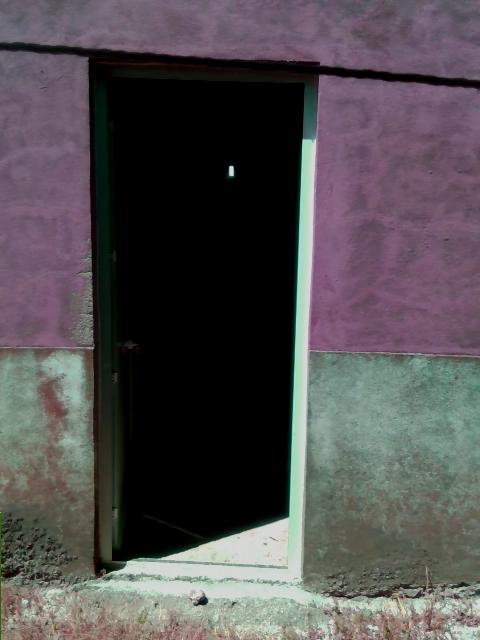open_door: (89, 51, 319, 577)
